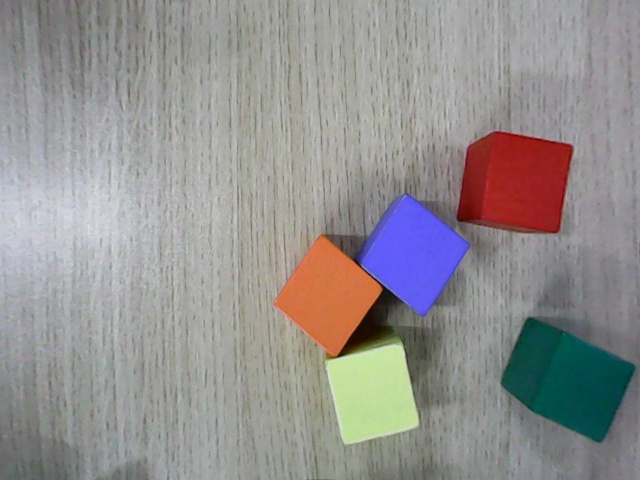upside of small cube: (272, 234, 384, 358), (360, 194, 472, 317), (531, 331, 636, 444), (324, 342, 421, 446), (480, 131, 574, 234)
